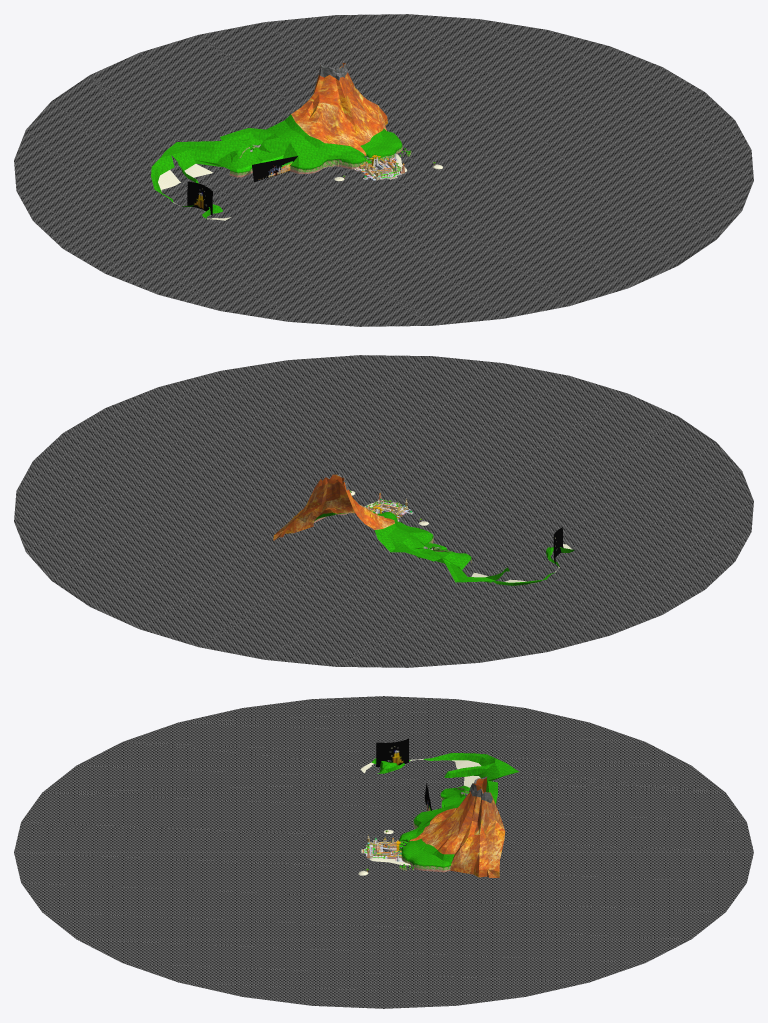
3 renders of one model, top to bottom at view 1: azimuth 30°, elevation 25°; view 2: azimuth 150°, elevation 25°; view 3: azimuth 270°, elevation 25°, orthographic.
Visible parts, largest first — view 1: DelfinoPlaza_v4_SKP__Water, DelfinoPlaza_v4_SKP__a39, DelfinoPlaza_v4_SKP__a22, DelfinoPlaza_v4_SKP__a2, DelfinoPlaza_v4_SKP__RoadSand, DelfinoPlaza_v4_SKP__a55, DelfinoPlaza_v4_SKP__a54; view 2: DelfinoPlaza_v4_SKP__Water, DelfinoPlaza_v4_SKP__a39, DelfinoPlaza_v4_SKP__a22; view 3: DelfinoPlaza_v4_SKP__Water, DelfinoPlaza_v4_SKP__a22, DelfinoPlaza_v4_SKP__a39, DelfinoPlaza_v4_SKP__a54, DelfinoPlaza_v4_SKP__RoadSand.
Part boxes in pixels (x1,y1,x2,y2): DelfinoPlaza_v4_SKP__Water: [14, 14, 753, 326]; DelfinoPlaza_v4_SKP__a39: [151, 114, 401, 218]; DelfinoPlaza_v4_SKP__a22: [291, 63, 387, 155]; DelfinoPlaza_v4_SKP__a2: [229, 145, 408, 177]; DelfinoPlaza_v4_SKP__RoadSand: [158, 154, 442, 220]; DelfinoPlaza_v4_SKP__a55: [252, 156, 297, 182]; DelfinoPlaza_v4_SKP__a54: [187, 181, 212, 215]; DelfinoPlaza_v4_SKP__Water: [14, 355, 753, 667]; DelfinoPlaza_v4_SKP__a39: [314, 509, 574, 585]; DelfinoPlaza_v4_SKP__a22: [273, 474, 394, 540]; DelfinoPlaza_v4_SKP__Water: [14, 696, 753, 1008]; DelfinoPlaza_v4_SKP__a22: [409, 777, 505, 878]; DelfinoPlaza_v4_SKP__a39: [371, 753, 518, 867]; DelfinoPlaza_v4_SKP__a54: [376, 738, 408, 766]; DelfinoPlaza_v4_SKP__RoadSand: [358, 759, 480, 875].
Size of the model in its own units: 946869 by 106207 by 946869.
Materials: 57 (57 with a texture image).
